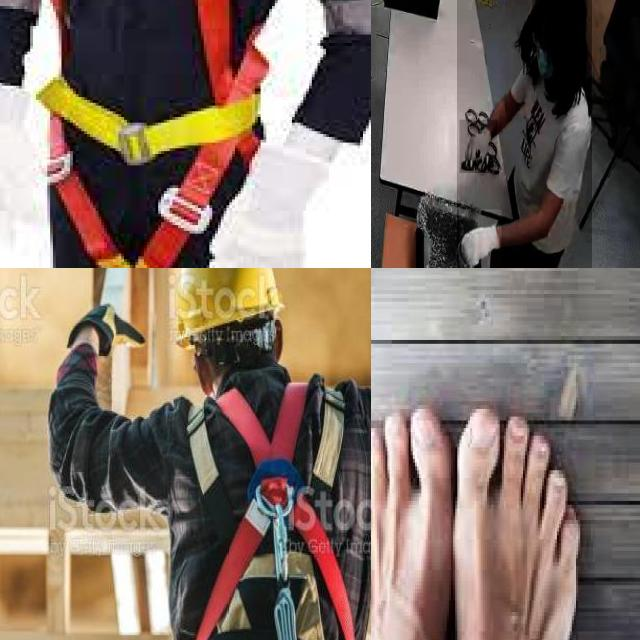Barefoots: (457, 395, 586, 640), (371, 405, 451, 640)
Harness: (36, 0, 270, 268), (196, 386, 356, 640)
face_mask: (527, 23, 559, 85)
hand_glove: (459, 209, 502, 268), (460, 120, 498, 173)
head_nohelmet: (532, 0, 587, 18)
person: (457, 0, 592, 268)
